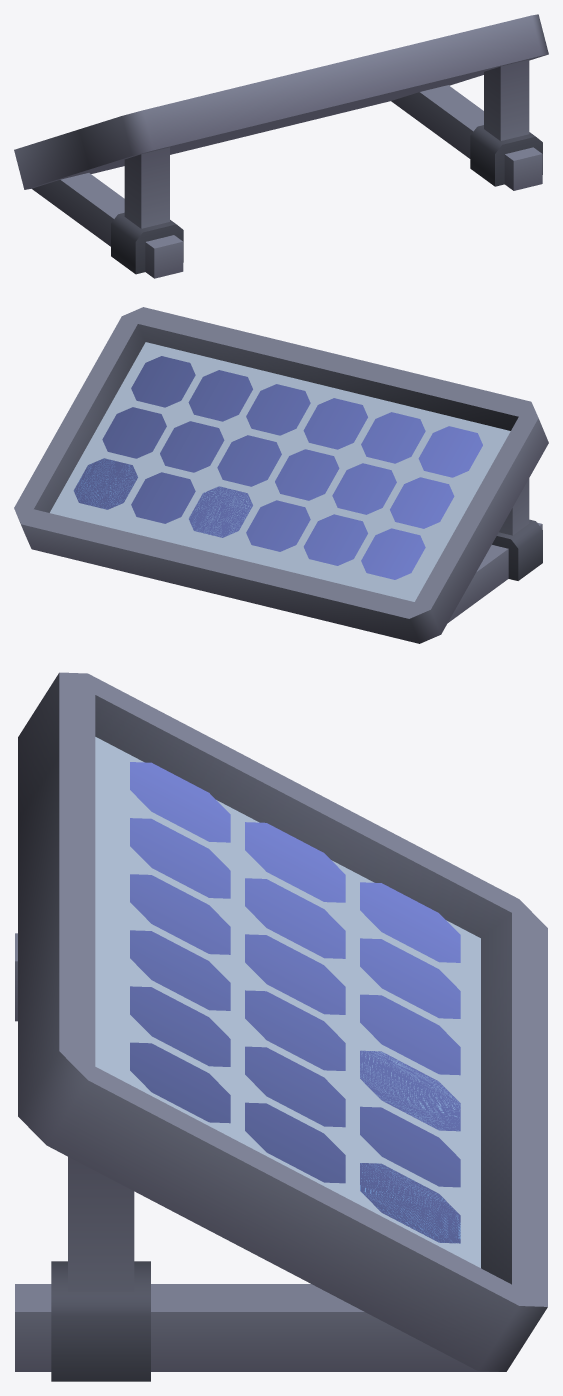
File: solar-panel-landscape.glb
3 views of the same model, one above another, from view 1: azimuth 30°, elevation 25°; view 2: azimuth 150°, elevation 25°; view 3: azimuth 270°, elevation 25° (orthographic). The views are drawn at different scales.
Parts seen in each view (by area): view 1: solar-panel-landscape; view 2: solar-panel-landscape; view 3: solar-panel-landscape.
Boxes of the visible parts, box(x1,y1,x2,y2) form: solar-panel-landscape: box(14, 14, 548, 278); solar-panel-landscape: box(14, 307, 548, 643); solar-panel-landscape: box(15, 672, 547, 1381).
Size of the model in its own units: 0.7134 by 0.2624 by 0.3951.
Materials: 2 (2 with a texture image).
